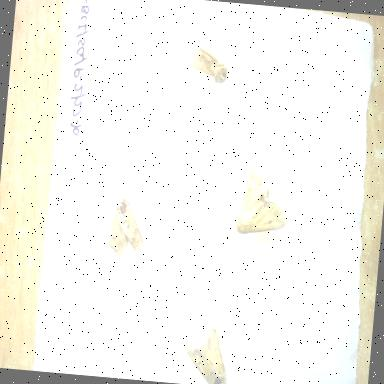abw: (231, 161, 296, 243), (104, 182, 153, 263), (180, 318, 236, 384), (177, 34, 233, 88)
